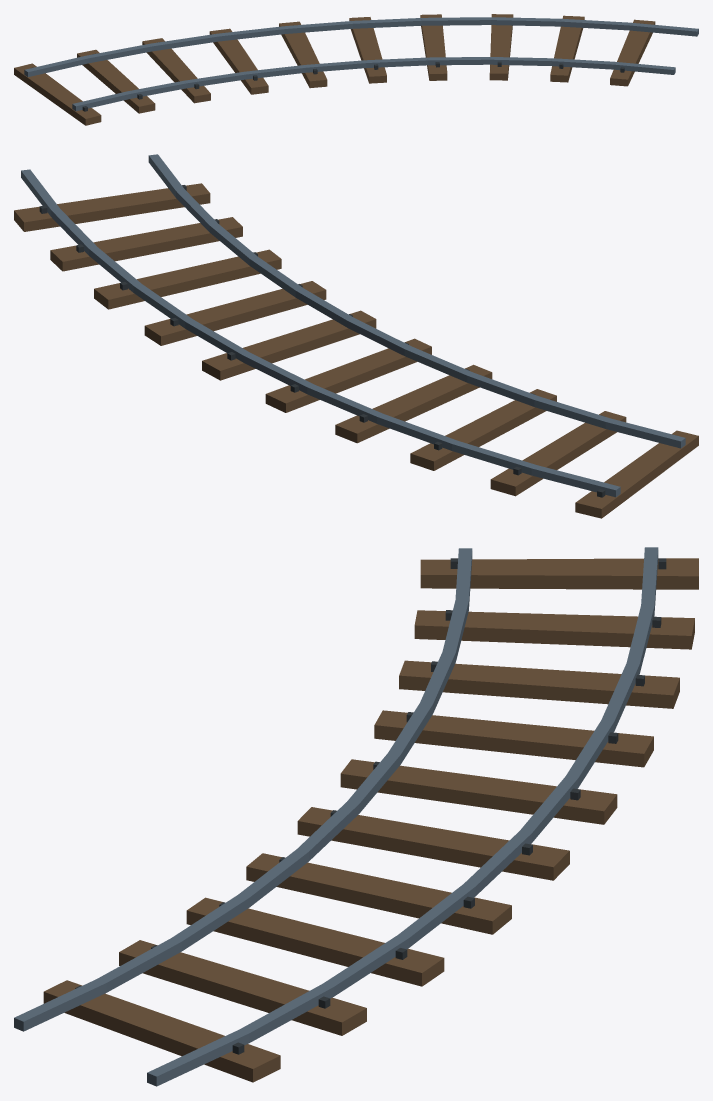
The model's file is Tracks45Right.FBX.
The picture shows the model from 3 angles, top to bottom: view 1: azimuth 30°, elevation 25°; view 2: azimuth 150°, elevation 25°; view 3: azimuth 270°, elevation 25°; orthographic projection. The views are drawn at different scales.
Parts seen in each view (by area): view 1: Box022; view 2: Box022; view 3: Box022.
Boxes of the visible parts, x1,y1,x2,y2 form: Box022: (14,14,698,125); Box022: (14,154,698,518); Box022: (14,547,698,1086).
Size of the model in its own units: 9.59 by 0.2086 by 5.24.
